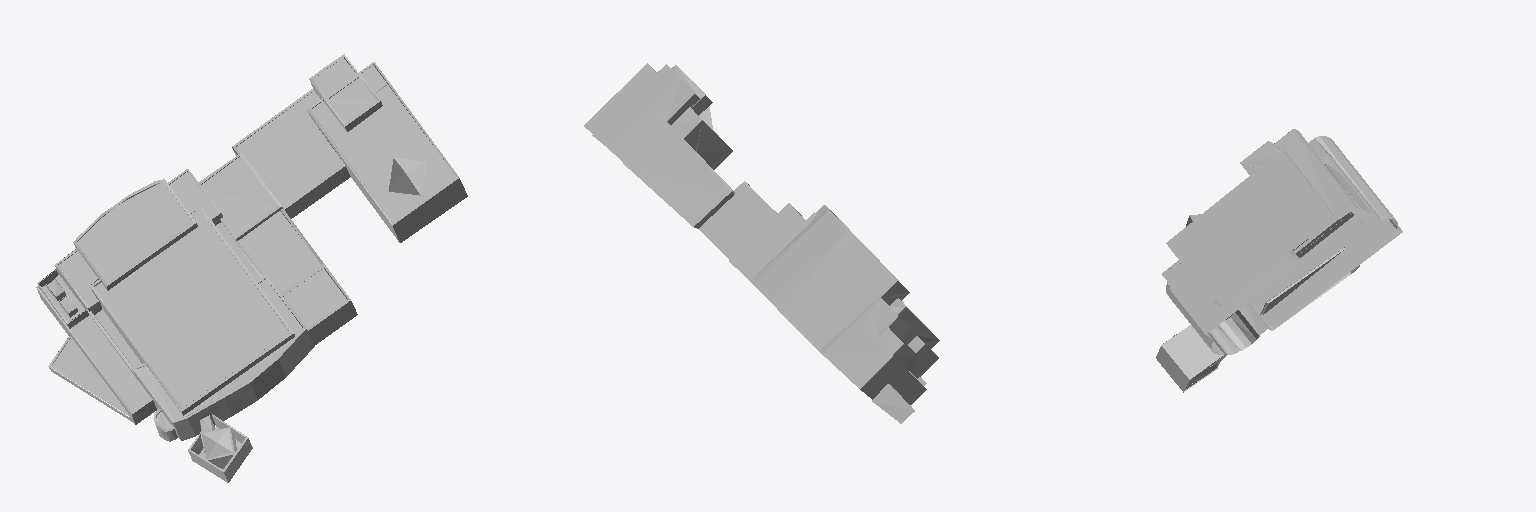
3 views of the same model, side by side, from view 1: azimuth 30°, elevation 25°; view 2: azimuth 150°, elevation 25°; view 3: azimuth 270°, elevation 25° (orthographic).
Visible parts, largest first — view 1: [number redacted]; view 2: [number redacted]; view 3: [number redacted].
Part boxes in pixels (left/top/right/bottom): [number redacted]: left=36, top=54, right=467, bottom=482; [number redacted]: left=584, top=63, right=939, bottom=423; [number redacted]: left=1156, top=129, right=1402, bottom=392.
Size of the model in its own units: 91.75 by 85.5 by 55.25.